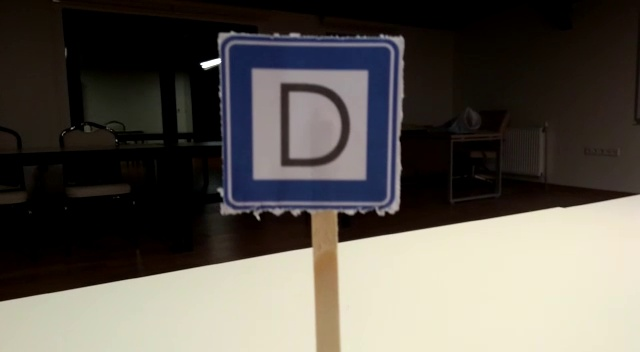durak: (222, 37, 399, 211)
